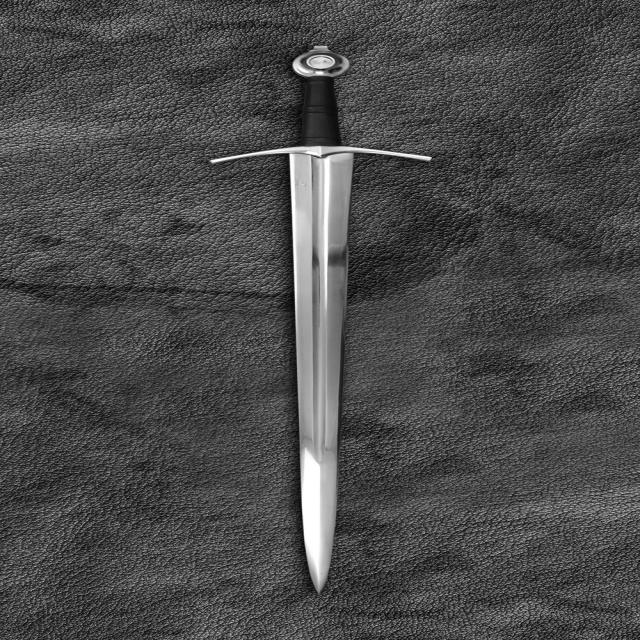Knife: (196, 39, 444, 606)
